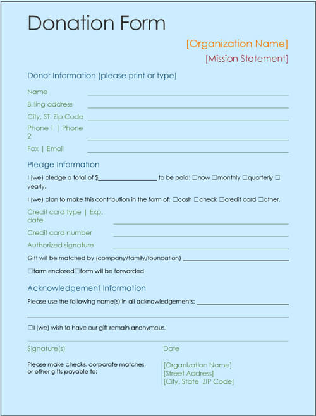checkbox: (273, 173, 282, 182), (241, 173, 249, 182), (190, 173, 198, 181), (26, 267, 34, 275), (73, 266, 80, 275), (211, 173, 217, 182), (26, 324, 33, 330)
textline: (25, 309, 291, 321), (84, 127, 294, 142), (85, 83, 292, 98), (25, 332, 292, 343), (83, 143, 293, 155), (112, 213, 288, 227), (112, 227, 289, 240), (85, 100, 292, 111), (86, 112, 293, 123), (112, 241, 290, 252), (194, 292, 290, 307), (181, 254, 290, 263), (97, 172, 158, 182)
